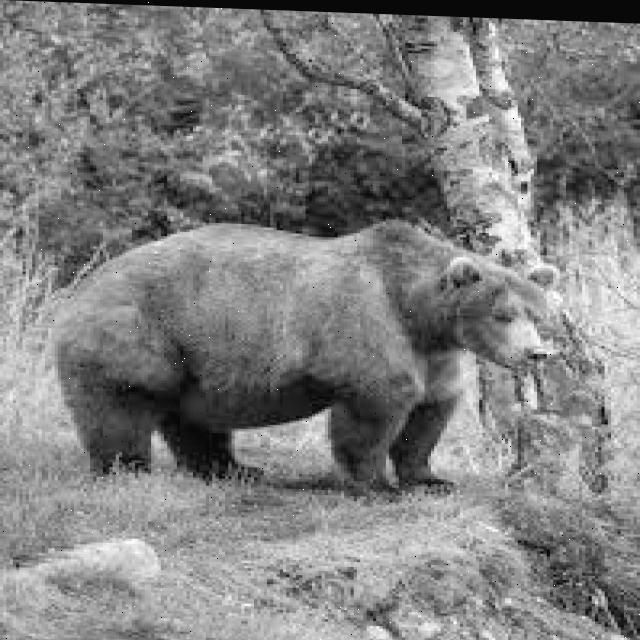Bear: (48, 208, 566, 520)
